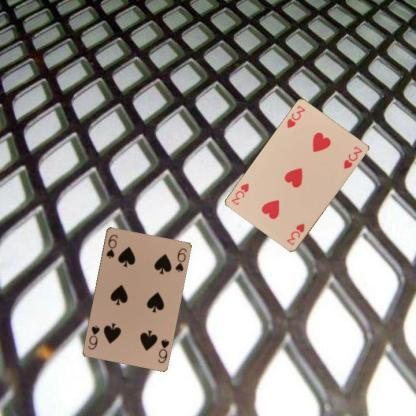3h: (284, 102, 306, 130), (284, 221, 306, 247)
6s: (156, 336, 170, 364), (104, 232, 118, 259)
